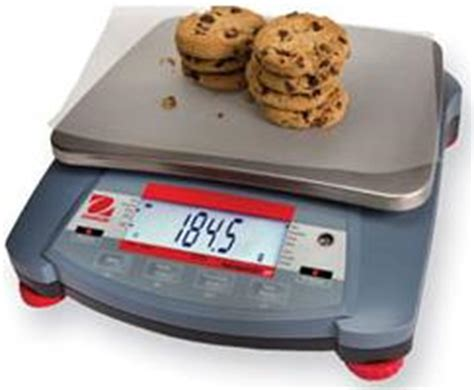Industrial Scale: (4, 3, 461, 379)
